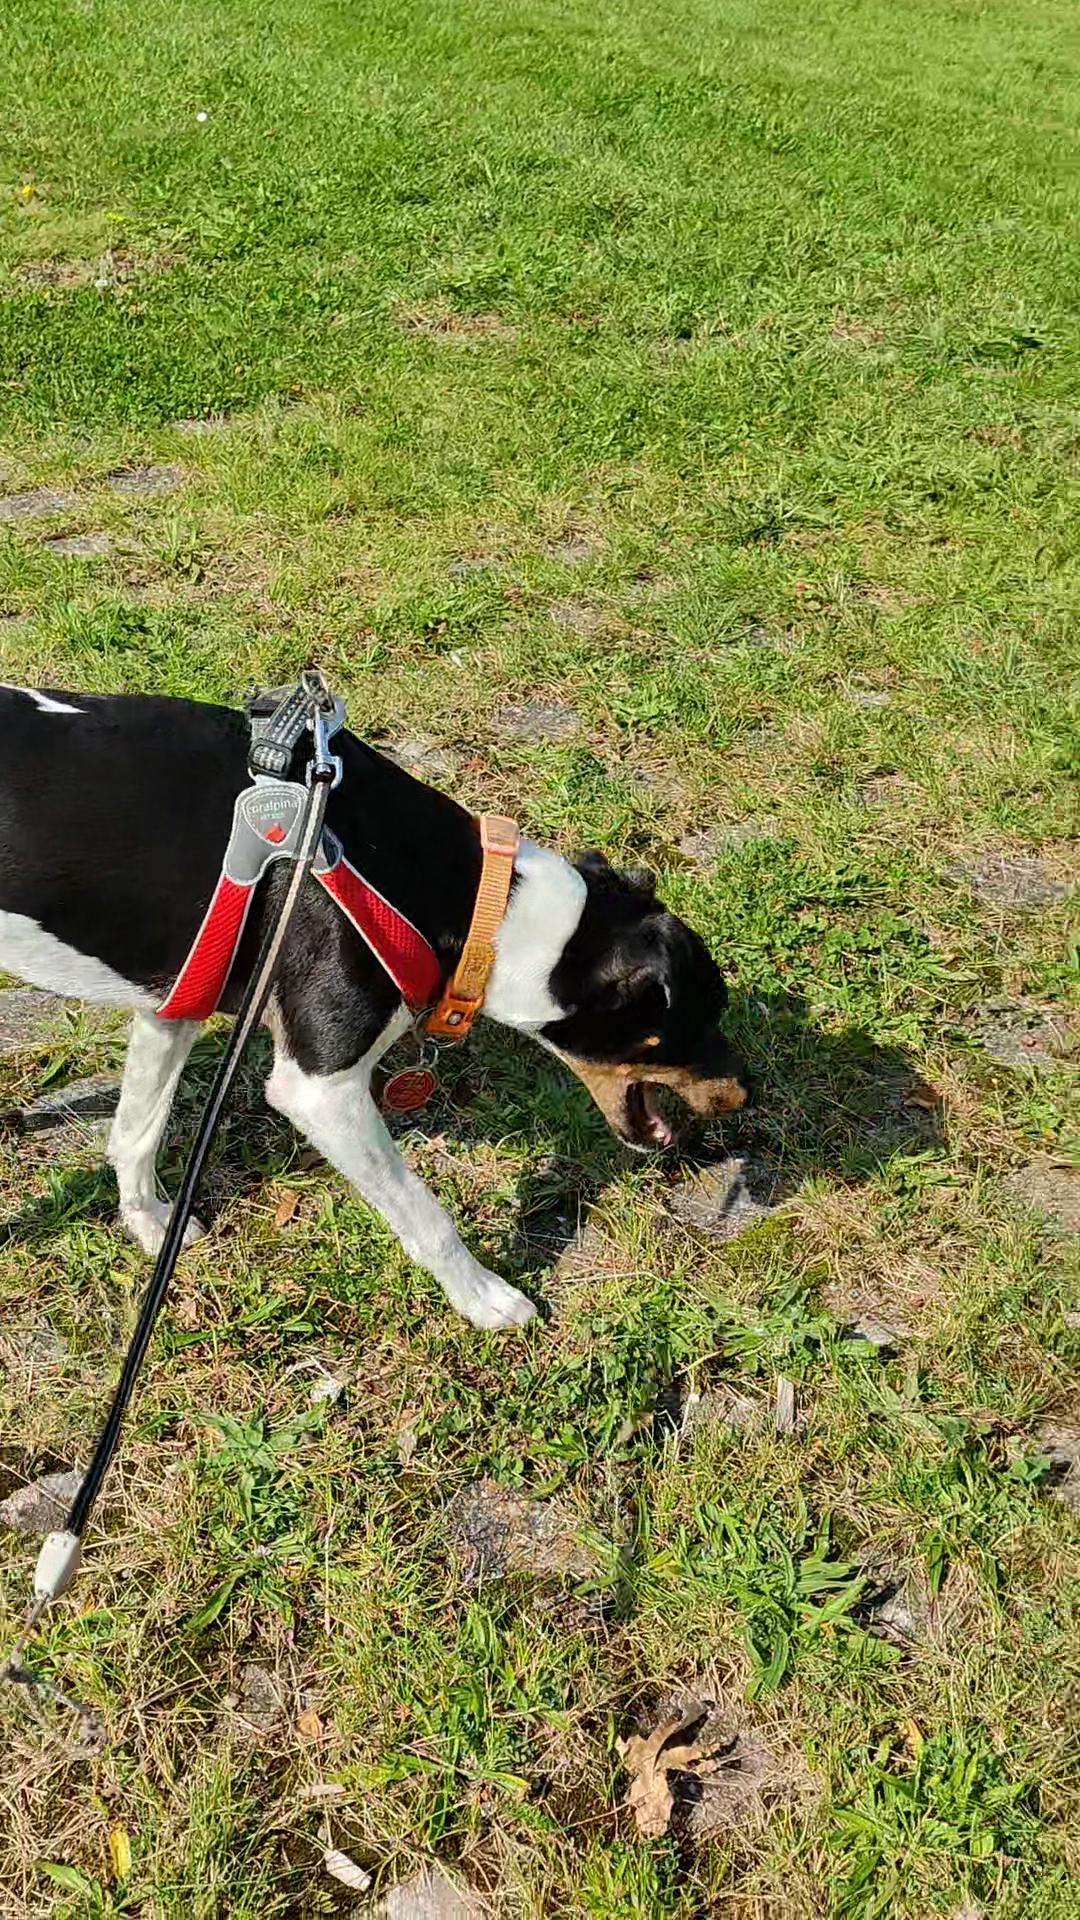Dog: (0, 618, 825, 1386)
